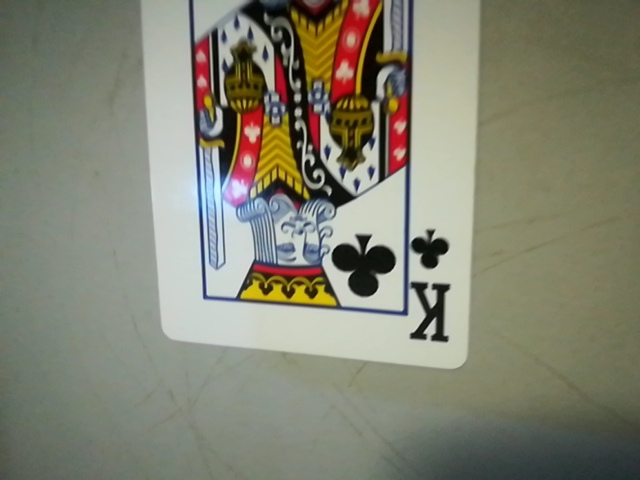mh k: (400, 223, 464, 355)
